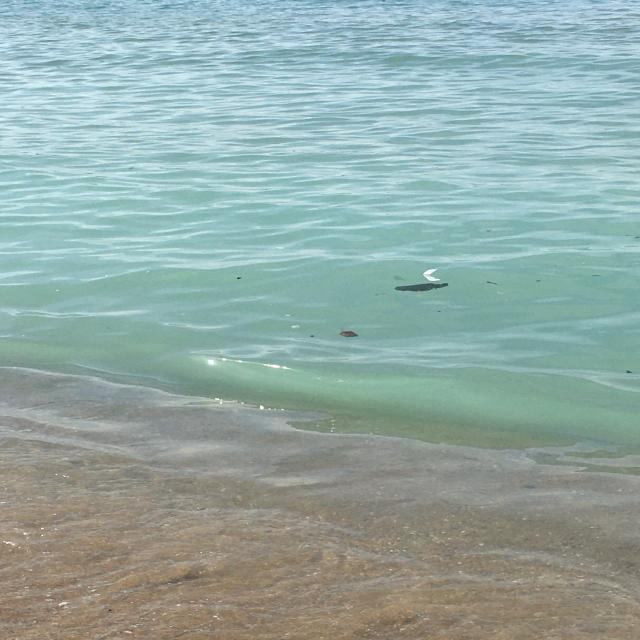Plastic: (422, 267, 441, 282)
Plastic bag: (393, 282, 451, 293)
Wood: (338, 329, 359, 339)
